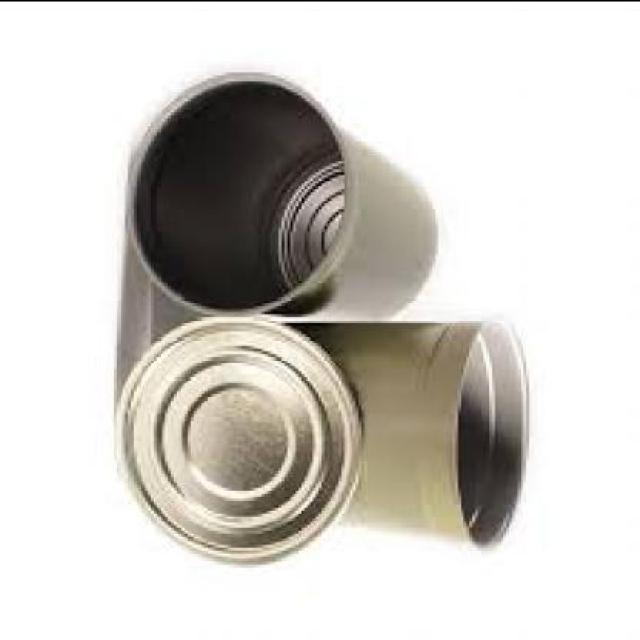metal: (123, 77, 445, 318), (114, 314, 366, 566), (280, 322, 529, 552)
